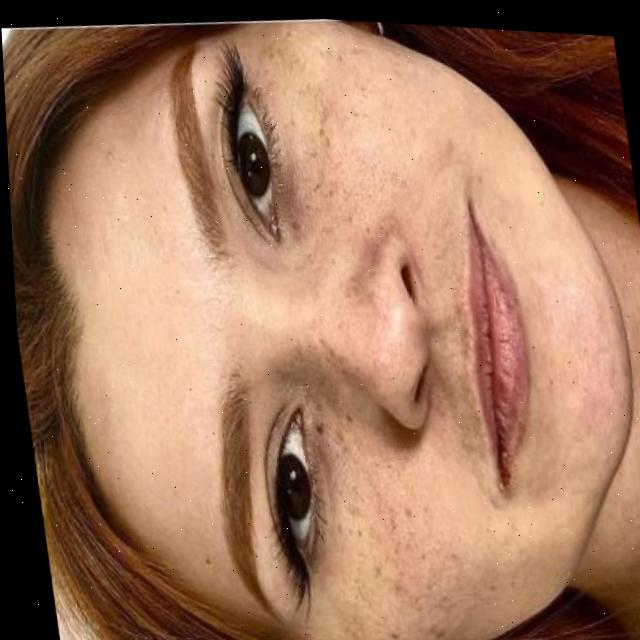Melasma: (255, 15, 434, 277), (305, 392, 483, 640)
